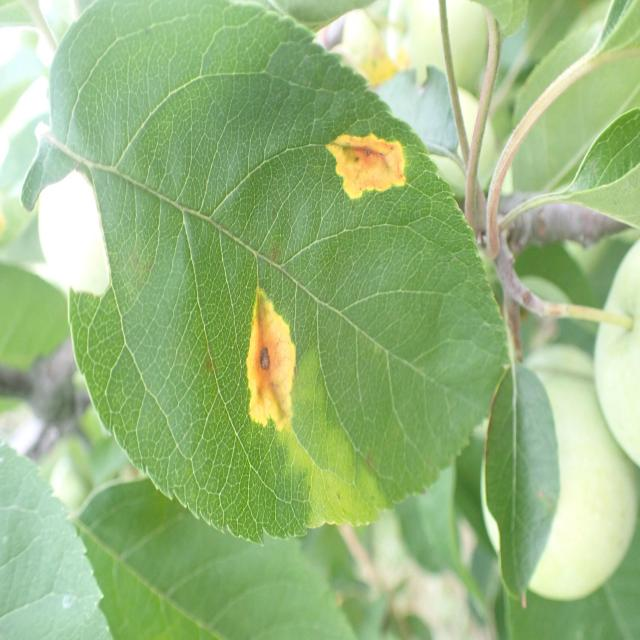Rust: (242, 263, 305, 473), (308, 110, 417, 214)
